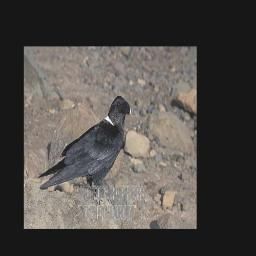Crow: (37, 95, 134, 208)
